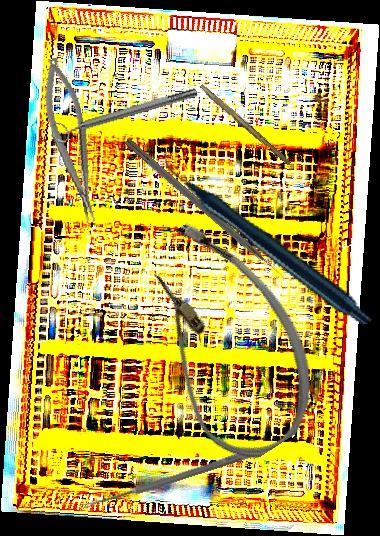Cannula: (101, 203, 346, 477)
Fixation Ring: (50, 81, 201, 146)
Handpiece: (160, 109, 374, 366)
Hook Surgical: (122, 137, 286, 283)
Needle Holder: (35, 54, 105, 227)
Scalpel Handle: (197, 84, 293, 166)
Surgical Spoon: (81, 447, 256, 512)
